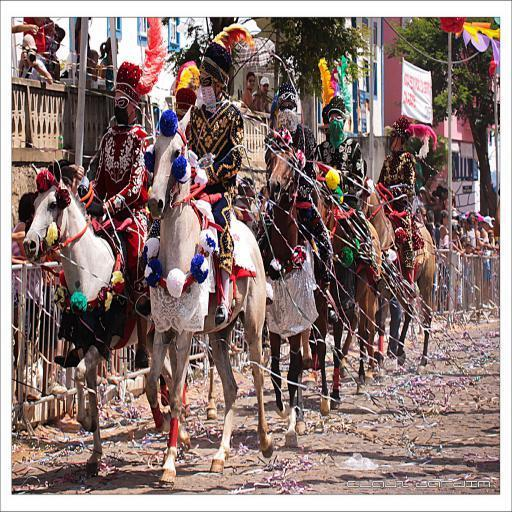horse: (22, 116, 436, 491)
